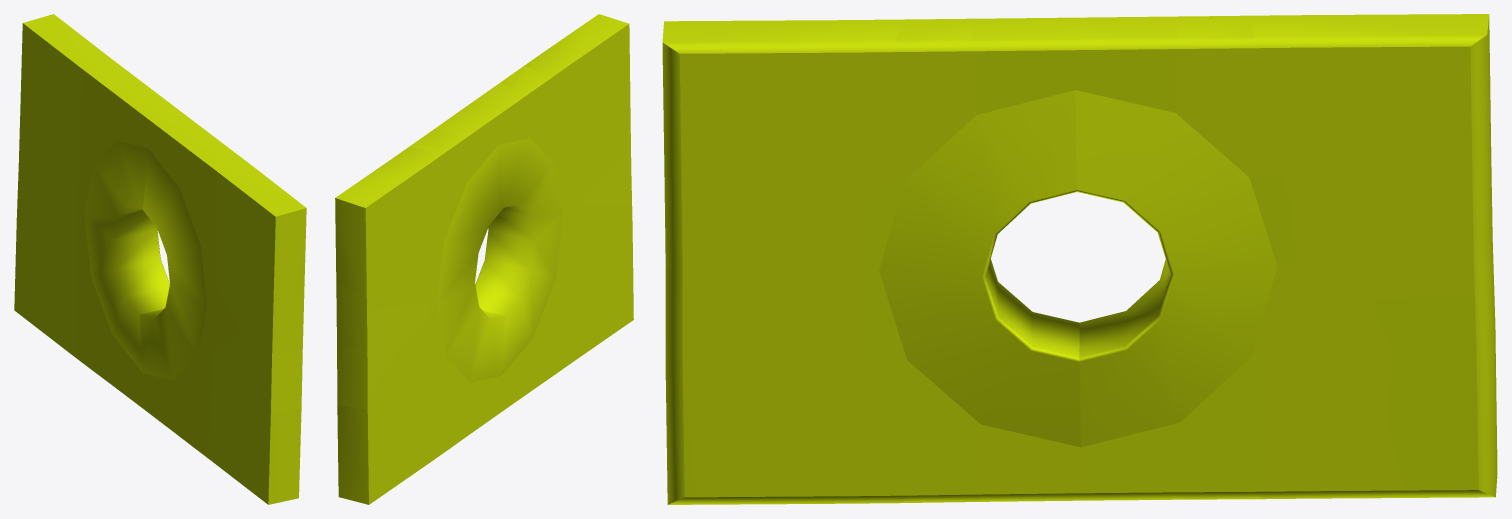
The model's file is Poster_Light.fbx.
3 views of the same model, side by side, from view 1: azimuth 30°, elevation 25°; view 2: azimuth 150°, elevation 25°; view 3: azimuth 270°, elevation 25° (orthographic). The views are drawn at different scales.
Parts seen in each view (by area): view 1: Poster_Light; view 2: Poster_Light; view 3: Poster_Light.
Part boxes in pixels (bbox=[...]): Poster_Light: bbox=[14, 14, 306, 504]; Poster_Light: bbox=[335, 14, 633, 504]; Poster_Light: bbox=[662, 14, 1497, 504].
Bounding box in the file's own units: 0.5542 × 3.25 × 5.16.
